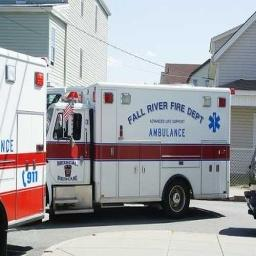Ambulance: (47, 83, 230, 217), (0, 48, 46, 254), (244, 149, 255, 218)
